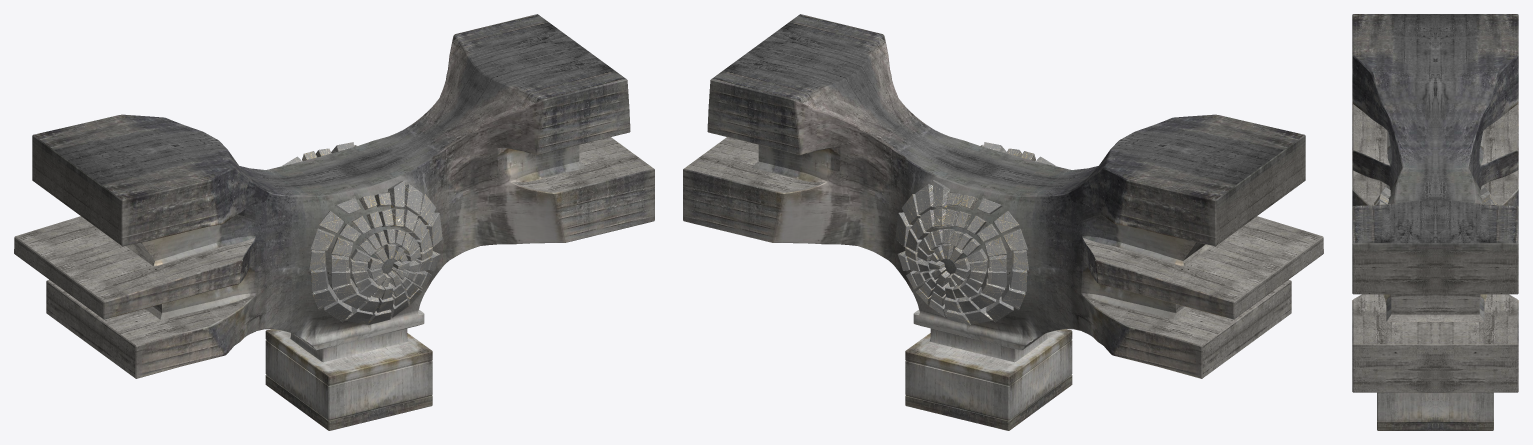
Rendered from spomenikpodgaric.glb.
3 views of the same model, side by side, from view 1: azimuth 30°, elevation 25°; view 2: azimuth 150°, elevation 25°; view 3: azimuth 270°, elevation 25° (orthographic). The views are drawn at different scales.
Visible parts, largest first — view 1: Box001, Line001; view 2: Box001, Line001; view 3: Box001, Line001.
Boxes of the visible parts, bbox=[...] form: Box001: bbox=[14, 14, 654, 430]; Line001: bbox=[282, 142, 442, 324]; Box001: bbox=[683, 14, 1323, 430]; Line001: bbox=[895, 142, 1055, 324]; Box001: bbox=[1352, 14, 1518, 430]; Line001: bbox=[1372, 187, 1498, 205].
Size of the model in its own units: 19.65 by 10.02 by 5.56.
Materials: 2 (2 with a texture image).
